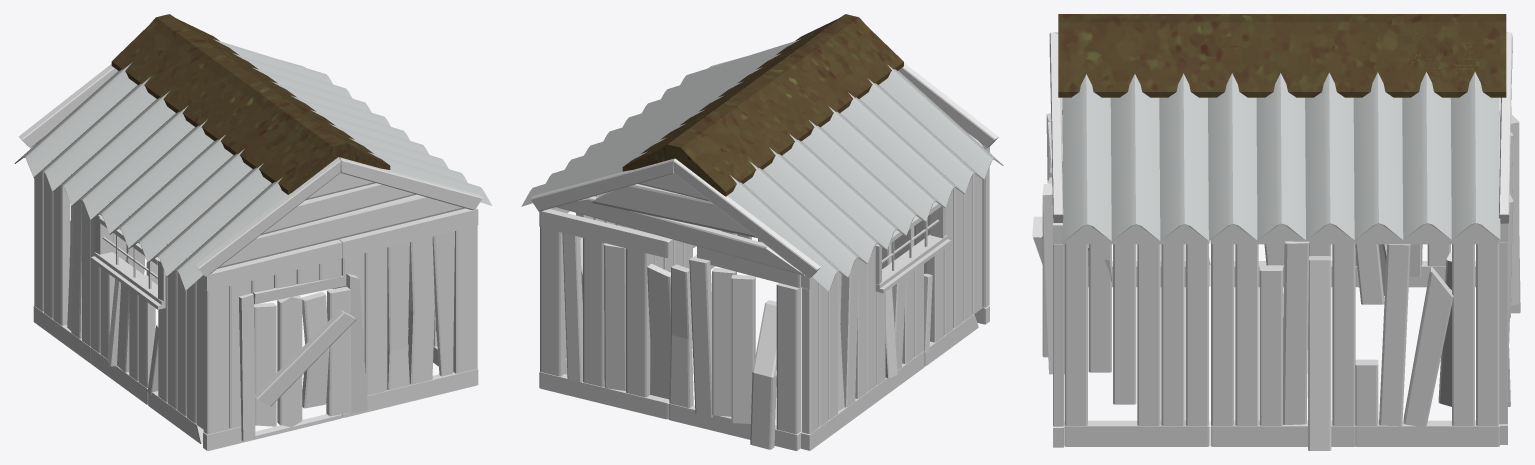
File: shed (2).fbx
The picture shows the model from 3 angles, left to right: view 1: azimuth 30°, elevation 25°; view 2: azimuth 150°, elevation 25°; view 3: azimuth 270°, elevation 25°; orthographic projection. The views are drawn at different scales.
Parts seen in each view (by area): view 1: Cube.001, door.001; view 2: Cube.001, door.001; view 3: Cube.001, door.001.
Boxes of the visible parts, bbox=[...] form: Cube.001: bbox=[14, 14, 492, 450]; door.001: bbox=[254, 286, 356, 427]; Cube.001: bbox=[521, 14, 1003, 450]; door.001: bbox=[882, 215, 930, 273]; Cube.001: bbox=[1042, 14, 1520, 450]; door.001: bbox=[1032, 167, 1052, 357].
Size of the model in its own units: 1199 by 1027 by 1303.
